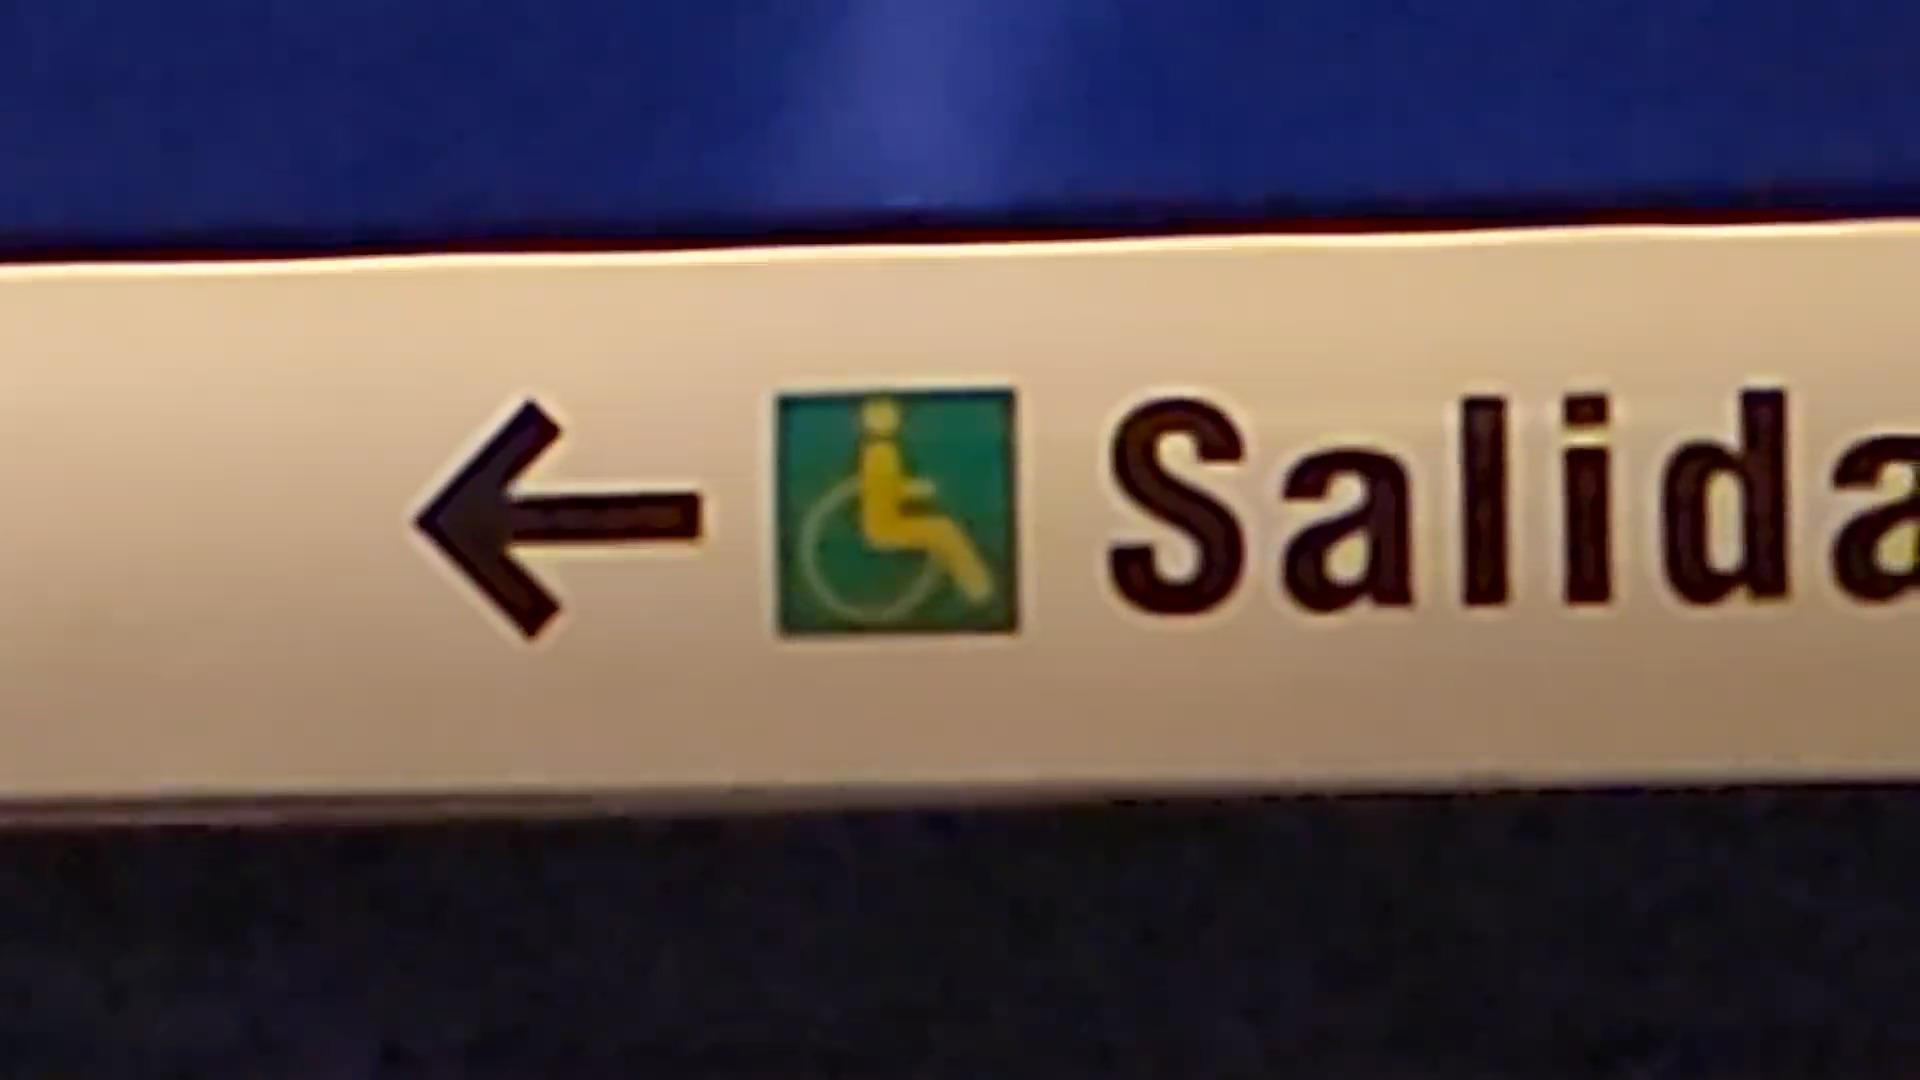handicapped symbol: (795, 397, 1001, 636)
left arrow: (400, 388, 713, 646)
